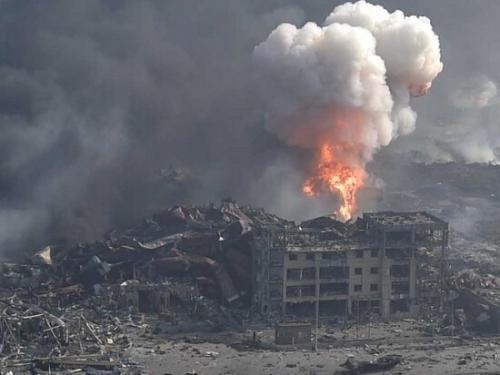fire: (303, 144, 366, 218)
